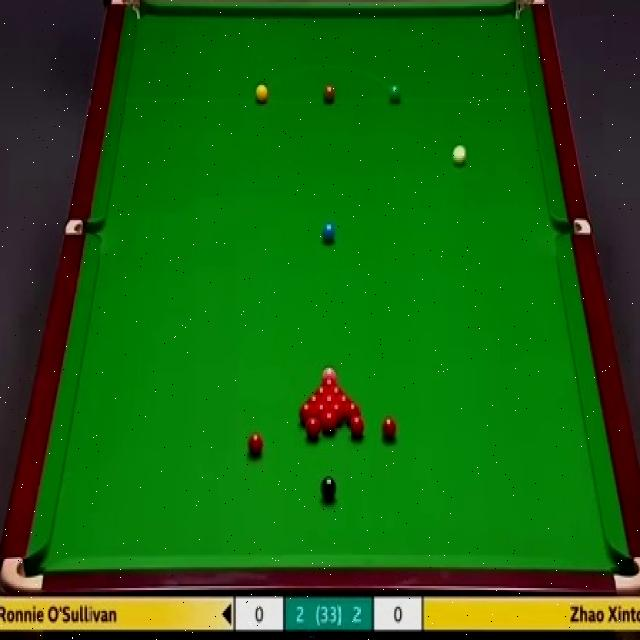black-ball: (320, 473, 336, 502)
blue-ball: (323, 222, 336, 245)
brown-ball: (323, 86, 335, 104)
green-ball: (389, 84, 401, 104)
pink-ball: (321, 362, 337, 380)
red-ball: (246, 430, 266, 456), (382, 414, 397, 444), (303, 418, 320, 442), (321, 410, 336, 436), (344, 402, 361, 423), (350, 414, 366, 436), (299, 402, 314, 424), (329, 404, 344, 422), (314, 402, 329, 418), (327, 386, 346, 397), (336, 394, 353, 405), (321, 395, 337, 405), (312, 386, 328, 396), (307, 395, 321, 406), (320, 377, 337, 386)
white-ball: (452, 142, 469, 168)
yellow-ball: (254, 82, 270, 104)
